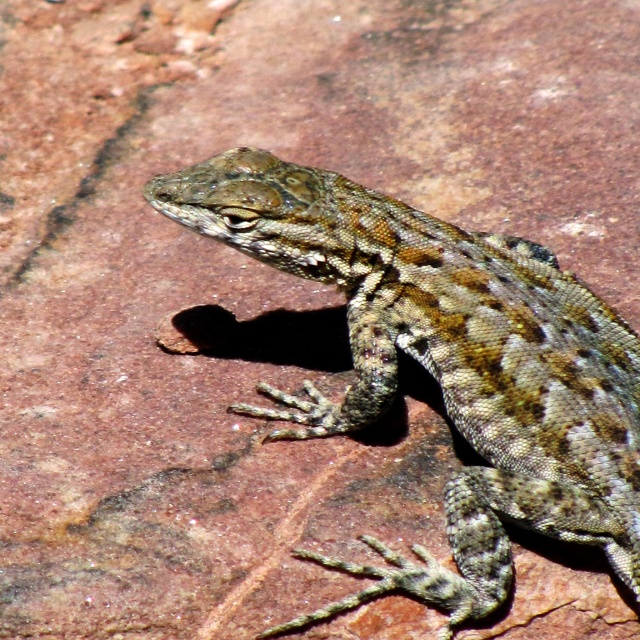Lizard: (142, 147, 640, 640)
